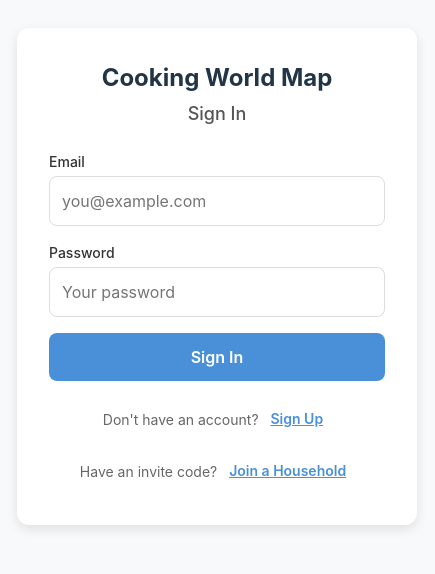
AuthGate › shows validation error when password is empty
The width and height of the screenshot is (435, 574).
In the field labelled "Email": coordinates (217, 200) top-left (49, 176), bottom-right (385, 226), type "test@example.com"
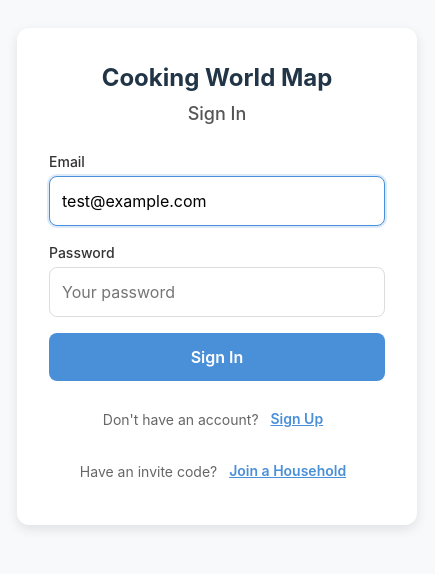
Click the button "Sign In": coordinates (217, 356) top-left (49, 332), bottom-right (385, 380)
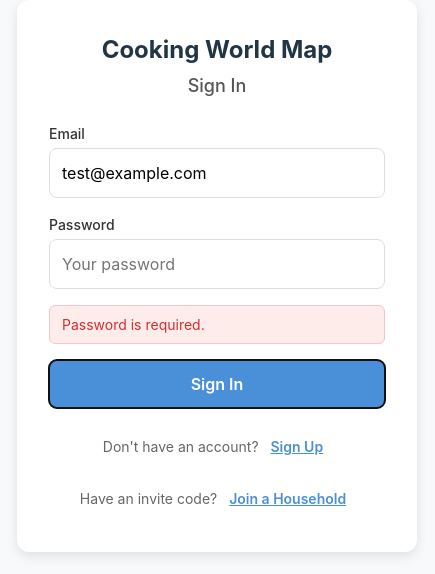
Now the message shows "Password is required", box top-left (62, 316), bottom-right (205, 333)
